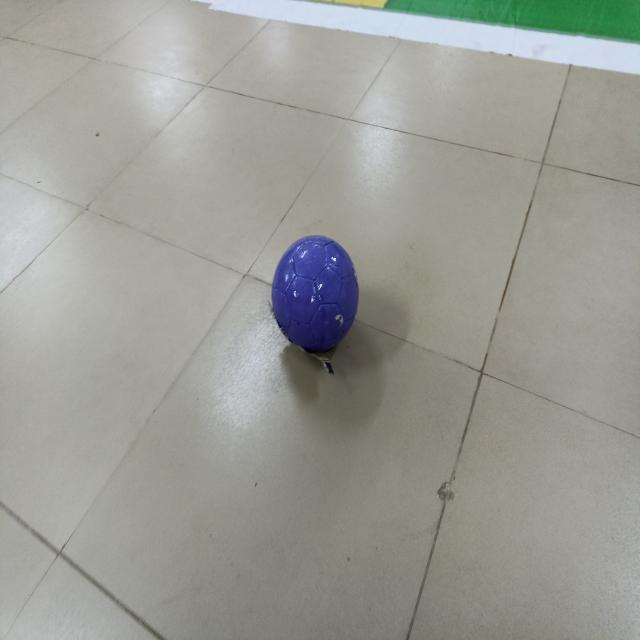purple_ball: (266, 233, 361, 364)
